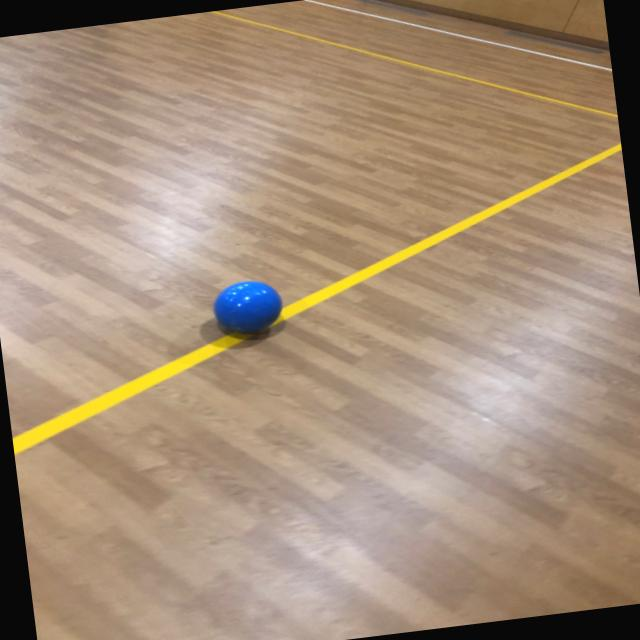blue_ball: (206, 276, 290, 343)
